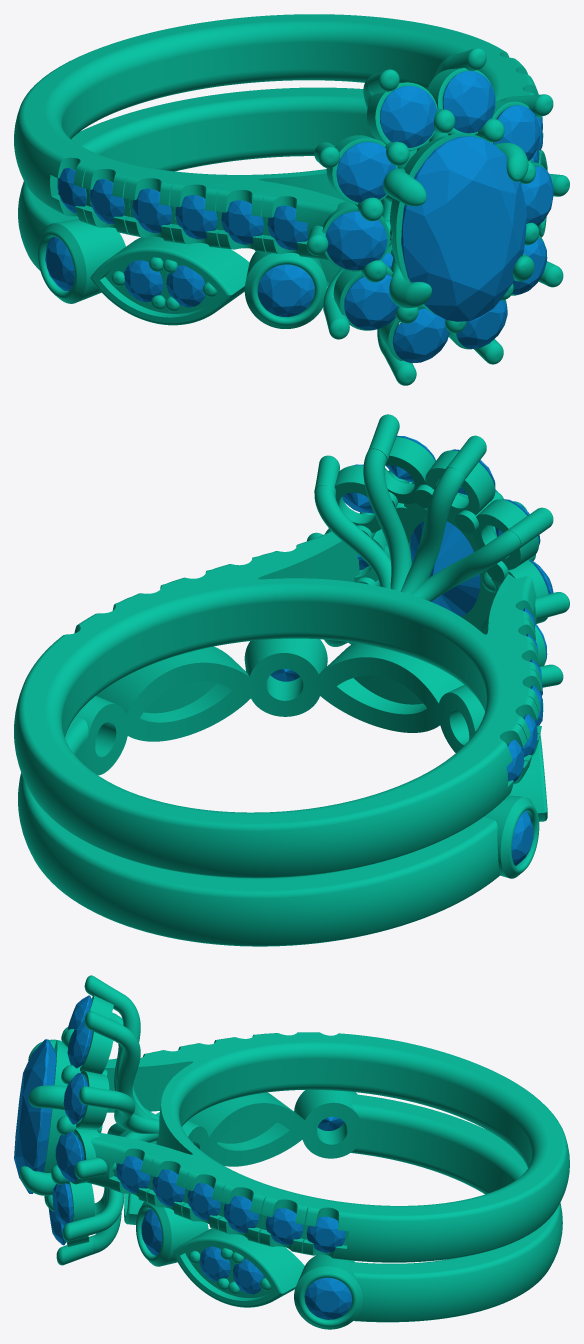
3 renders of one model, top to bottom at view 1: azimuth 30°, elevation 25°; view 2: azimuth 150°, elevation 25°; view 3: azimuth 270°, elevation 25°, orthographic. The views are drawn at different scales.
Visible parts, largest first — view 1: VR742 27.8.25(base).3dm, Diamond_Round (×20), Diamond_Oval, Bezel (×8); view 2: VR742 27.8.25(base).3dm, Bezel (×10), Diamond_Oval, Diamond_Round; view 3: VR742 27.8.25(base).3dm, Diamond_Round (×15), Bezel (×9), Diamond_Oval.
Part boxes in pixels (bbox=[...]): VR742 27.8.25(base).3dm: bbox=[14, 14, 569, 385]; Diamond_Round (×20): bbox=[45, 71, 553, 362]; Diamond_Oval: bbox=[401, 136, 526, 321]; Bezel (×8): bbox=[37, 68, 492, 330]; VR742 27.8.25(base).3dm: bbox=[14, 414, 569, 946]; Bezel (×10): bbox=[75, 437, 548, 878]; Diamond_Oval: bbox=[410, 489, 497, 616]; Diamond_Round: bbox=[511, 810, 533, 865]; VR742 27.8.25(base).3dm: bbox=[19, 975, 569, 1322]; Diamond_Round (×15): bbox=[52, 995, 351, 1319]; Bezel (×9): bbox=[44, 1031, 362, 1329]; Diamond_Oval: bbox=[14, 1039, 56, 1193].
Size of the model in its own units: 2.37 by 1.47 by 2.87.
